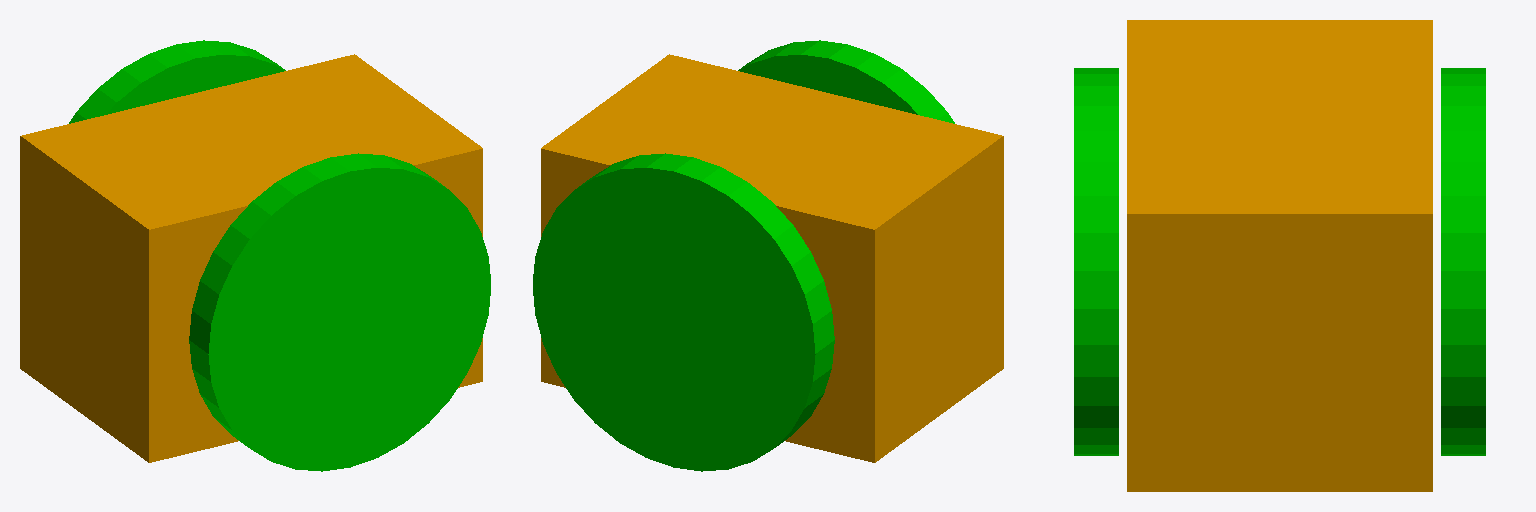
robot.urdf — mdu:
<?xml version="1.0" encoding="utf-8"?>
<!-- =================================================================================== -->
<!-- |    This document was autogenerated by xacro from [local-path]/wheelchair/src/mdu_description/urdf/mdu.xacro | -->
<!-- |    EDITING THIS FILE BY HAND IS NOT RECOMMENDED                                 | -->
<!-- =================================================================================== -->
<robot name="mdu" xmlns:xacro="http://www.ros.org/wiki/xacro">
  <gazebo>
    <plugin filename="libgazebo_ros_diff_drive.so" name="differential_drive_controller">
      <legacyMode>false</legacyMode>
      <alwaysOn>true</alwaysOn>
      <updateRate>20</updateRate>
      <leftJoint>chassis_rear_left_wheel_joint</leftJoint>
      <rightJoint>chassis_rear_right_wheel_joint</rightJoint>
      <wheelSeparation>0.3</wheelSeparation>
      <wheelDiameter>0.254</wheelDiameter>
      <torque>20</torque>
      <commandTopic>cmd_vel</commandTopic>
      <odometryTopic>odom</odometryTopic>
      <odometryFrame>odom</odometryFrame>
      <robotBaseFrame>footprint</robotBaseFrame>
    </plugin>
  </gazebo>
  <gazebo reference="chassis">
    <material>Gazebo/Red</material>
  </gazebo>
  <gazebo reference="rear_right_wheel">
    <material>Gazebo/Black</material>
  </gazebo>
  <gazebo reference="rear_left_wheel">
    <material>Gazebo/Black</material>
  </gazebo>
  <material name="black">
    <color rgba="0.0 0.0 0.0 1.0"/>
  </material>
  <material name="blue">
    <color rgba="0.0 0.0 0.8 1.0"/>
  </material>
  <material name="green">
    <color rgba="0.0 0.8 0.0 1.0"/>
  </material>
  <material name="grey">
    <color rgba="0.2 0.2 0.2 1.0"/>
  </material>
  <material name="orange">
    <color rgba="1.0 0.423529411765 0.0392156862745 1.0"/>
  </material>
  <material name="brown">
    <color rgba="0.870588235294 0.811764705882 0.764705882353 1.0"/>
  </material>
  <material name="red">
    <color rgba="0.8 0.0 0.0 1.0"/>
  </material>
  <material name="white">
    <color rgba="1.0 1.0 1.0 1.0"/>
  </material>
  <link name="chassis">
    <inertial name="chassis_intertial">
      <origin rpy="0 0 0" xyz="0 0 0"/>
      <mass value="20.0"/>
      <inertia ixx="0.133333333333" ixy="0" ixz="0" iyy="0.216666666667" iyz="0" izz="0.216666666667"/>
    </inertial>
    <collision name="collision">
      <geometry>
        <box size="0.3 0.2 0.2"/>
      </geometry>
    </collision>
    <visual name="chassis_visual">
      <origin rpy="0 0 0" xyz="0 0 0"/>
      <geometry>
        <box size="0.3 0.2 0.2"/>
      </geometry>
    </visual>
    <collision name="caster_collision">
      <origin rpy=" 0 0 0" xyz="-0.0865 0 -0.0635"/>
      <geometry>
        <sphere radius="0.0635"/>
      </geometry>
      <surface>
        <friction>
          <ode>
            <mu>0</mu>
            <mu2>0</mu2>
            <slip1>1.0</slip1>
            <slip2>1.0</slip2>
          </ode>
        </friction>
      </surface>
    </collision>
    <visual name="caster_visual">
      <origin rpy=" 0 0 0" xyz="-0.0865 0 -0.0635"/>
      <geometry>
        <sphere radius="0.0635"/>
      </geometry>
    </visual>
  </link>
  <link name="footprint">
  </link>
  <joint name="footprint_chassis_joint" type="fixed">
    <origin rpy="0 0 0" xyz="0 0 0.127"/>
    <parent link="footprint"/>
    <child link="chassis"/>
  </joint>
  <link name="rear_left_wheel">
    <collision name="rear_left_wheel_collision">
      <origin rpy="-1.57079632679 0 0" xyz=" 0 0 0"/>
      <geometry>
        <cylinder length="0.05" radius="0.127"/>
      </geometry>
    </collision>
    <visual name="rear_left_wheel_visual">
      <transparency>0.1</transparency>
      <origin rpy="-1.57079632679 0 0" xyz=" 0 0 0"/>
      <geometry>
        <cylinder length="0.03" radius="0.127"/>
      </geometry>
      <material name="green"/>
    </visual>
    <!--visual name="${lr}_visual_mesh">
        <origin xyz="${xyz}" rpy="${rpy}" />

        <geometry>
          <mesh filename="package://wheelchair_description/meshes/${meshFile}.stl" scale="0.01 0.01 0.01"/>
        </geometry>
      </visual-->
    <inertial name="rear_left_wheel_visual_intertial">
      <origin rpy="0 1.57079632679 1.57079632679" xyz="0 0 0"/>
      <mass value="2.0"/>
      <inertia ixx="0.00848116666667" ixy="0" ixz="0" iyy="0.00848116666667" iyz="0" izz="0.016129"/>
    </inertial>
    <!-- This block connects the wheel joint to an actuator (motor), which informs both
		simulation and visualization of the robot -->
    <!--transmission name="${lr}_wheel_trans">
		  <type>transmission_interface/SimpleTransmission</type>
		  <actuator name="${lr}_wheel_motor">
			<mechanicalReduction>1</mechanicalReduction>
		  </actuator>
		  <joint name="${lr}_motor_wheel_joint">
			<hardwareInterface>VelocityJointInterface</hardwareInterface>
		  </joint>
		</transmission-->
  </link>
  <joint name="chassis_rear_left_wheel_joint" type="continuous">
    <origin rpy="0 0 0" xyz="0.01 0.12 0"/>
    <child link="rear_left_wheel"/>
    <parent link="chassis"/>
    <axis rpy="0 0 0" xyz="0 1 0"/>
    <limit effort="100" velocity="100"/>
    <joint_properties damping="0.01" friction="0.5"/>
  </joint>
  <link name="rear_right_wheel">
    <collision name="rear_right_wheel_collision">
      <origin rpy="1.57079632679 0 0" xyz=" 0 0 0"/>
      <geometry>
        <cylinder length="0.05" radius="0.127"/>
      </geometry>
    </collision>
    <visual name="rear_right_wheel_visual">
      <transparency>0.1</transparency>
      <origin rpy="1.57079632679 0 0" xyz=" 0 0 0"/>
      <geometry>
        <cylinder length="0.03" radius="0.127"/>
      </geometry>
      <material name="green"/>
    </visual>
    <!--visual name="${lr}_visual_mesh">
        <origin xyz="${xyz}" rpy="${rpy}" />

        <geometry>
          <mesh filename="package://wheelchair_description/meshes/${meshFile}.stl" scale="0.01 0.01 0.01"/>
        </geometry>
      </visual-->
    <inertial name="rear_right_wheel_visual_intertial">
      <origin rpy="0 1.57079632679 1.57079632679" xyz="0 0 0"/>
      <mass value="2.0"/>
      <inertia ixx="0.00848116666667" ixy="0" ixz="0" iyy="0.00848116666667" iyz="0" izz="0.016129"/>
    </inertial>
    <!-- This block connects the wheel joint to an actuator (motor), which informs both
		simulation and visualization of the robot -->
    <!--transmission name="${lr}_wheel_trans">
		  <type>transmission_interface/SimpleTransmission</type>
		  <actuator name="${lr}_wheel_motor">
			<mechanicalReduction>1</mechanicalReduction>
		  </actuator>
		  <joint name="${lr}_motor_wheel_joint">
			<hardwareInterface>VelocityJointInterface</hardwareInterface>
		  </joint>
		</transmission-->
  </link>
  <joint name="chassis_rear_right_wheel_joint" type="continuous">
    <origin rpy="0 0 0" xyz="0.01 -0.12 0"/>
    <child link="rear_right_wheel"/>
    <parent link="chassis"/>
    <axis rpy="0 0 0" xyz="0 1 0"/>
    <limit effort="100" velocity="100"/>
    <joint_properties damping="0.01" friction="0.5"/>
  </joint>
</robot>

--- Render facts (derived) ---
3 views of the same robot in one strip: view 1: azimuth 30°, elevation 25°; view 2: azimuth 150°, elevation 25°; view 3: azimuth 270°, elevation 25° (orthographic).
Model mdu with 4 links and 3 joints (2 continuous, 1 fixed), rooted at footprint, posed every joint at zero.
Links seen in each view (by area): view 1: chassis, rear_right_wheel, rear_left_wheel; view 2: chassis, rear_left_wheel, rear_right_wheel; view 3: chassis, rear_left_wheel, rear_right_wheel.
Link boxes in pixels (bbox=[...]): chassis: bbox=[20, 54, 482, 462]; rear_right_wheel: bbox=[189, 153, 490, 471]; rear_left_wheel: bbox=[69, 40, 285, 123]; chassis: bbox=[541, 54, 1003, 462]; rear_left_wheel: bbox=[533, 153, 834, 471]; rear_right_wheel: bbox=[738, 40, 954, 123]; chassis: bbox=[1127, 20, 1432, 491]; rear_left_wheel: bbox=[1441, 68, 1485, 455]; rear_right_wheel: bbox=[1074, 68, 1118, 455].
Bounding box of the posed robot: 0.3 × 0.27 × 0.254 m (x, y, z).
Geometry: primitives only (box / cylinder / sphere), no mesh files.
